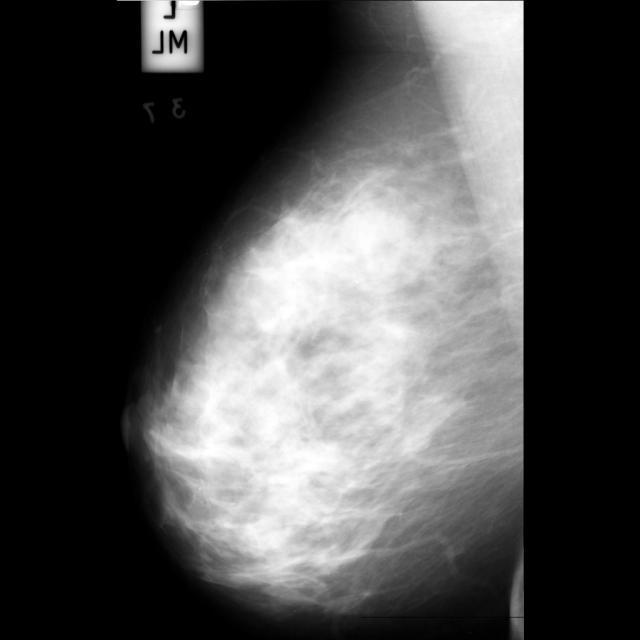ASYM: (306, 183, 444, 321)
